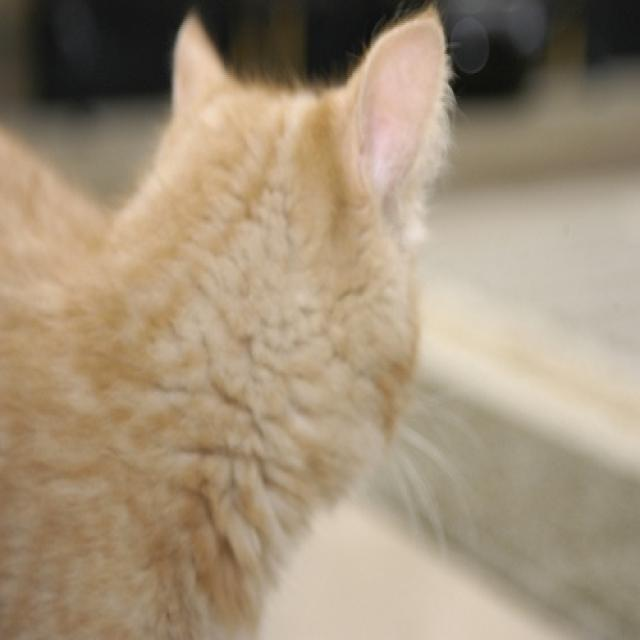cat: (0, 2, 460, 638)
